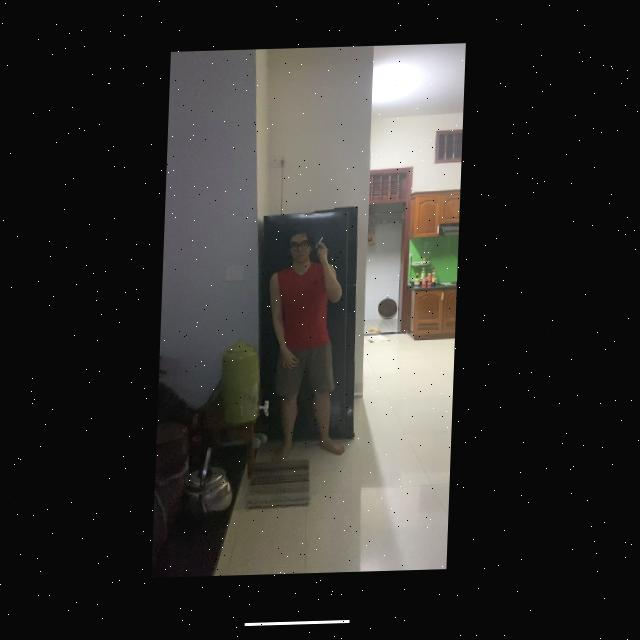cigarette: (317, 239, 324, 249)
